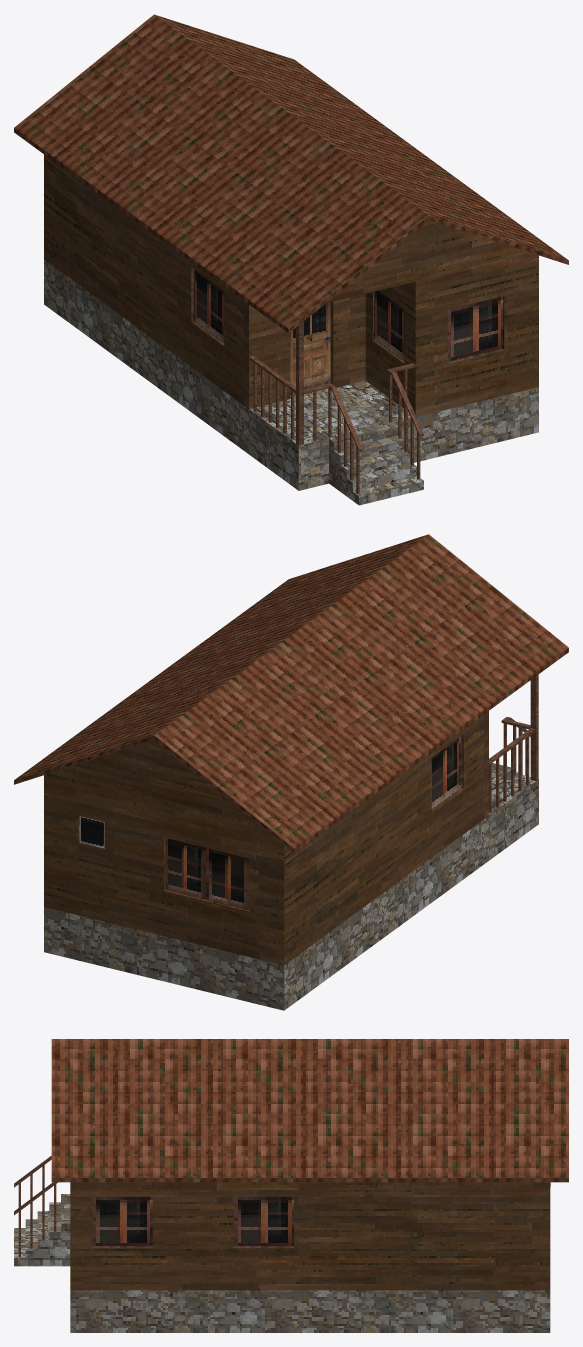
Rendered from house3.glb.
3 renders of one model, top to bottom at view 1: azimuth 30°, elevation 25°; view 2: azimuth 150°, elevation 25°; view 3: azimuth 270°, elevation 25°, orthographic. The views are drawn at different scales.
Parts seen in each view (by area): view 1: house3, house3_windows, house3_door1; view 2: house3, house3_windows; view 3: house3, house3_windows.
Part boxes in pixels (x1,y1,x2,y2): house3: [14, 14, 568, 505]; house3_windows: [191, 267, 504, 363]; house3_door1: [290, 302, 330, 396]; house3: [14, 534, 568, 1010]; house3_windows: [78, 734, 463, 911]; house3: [14, 1039, 568, 1332]; house3_windows: [91, 1196, 293, 1247].
Size of the model in its own units: 6.48 by 5.6 by 11.8.
Materials: 6 (6 with a texture image).
